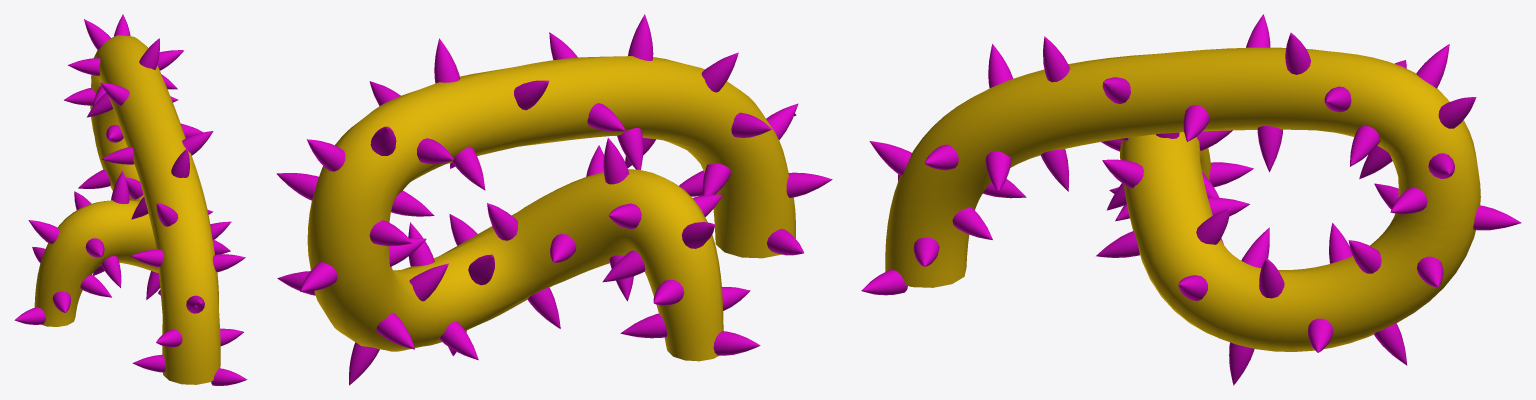
The model's file is Vine3.fbx.
3 views of the same model, side by side, from view 1: azimuth 30°, elevation 25°; view 2: azimuth 150°, elevation 25°; view 3: azimuth 270°, elevation 25° (orthographic). The views are drawn at different scales.
Parts seen in each view (by area): view 1: Bramble1; view 2: Bramble1; view 3: Bramble1.
Part boxes in pixels (bbox=[...]): Bramble1: bbox=[14, 14, 247, 385]; Bramble1: bbox=[276, 14, 832, 385]; Bramble1: bbox=[861, 14, 1521, 385].
Size of the model in its own units: 512 by 477 by 825.
